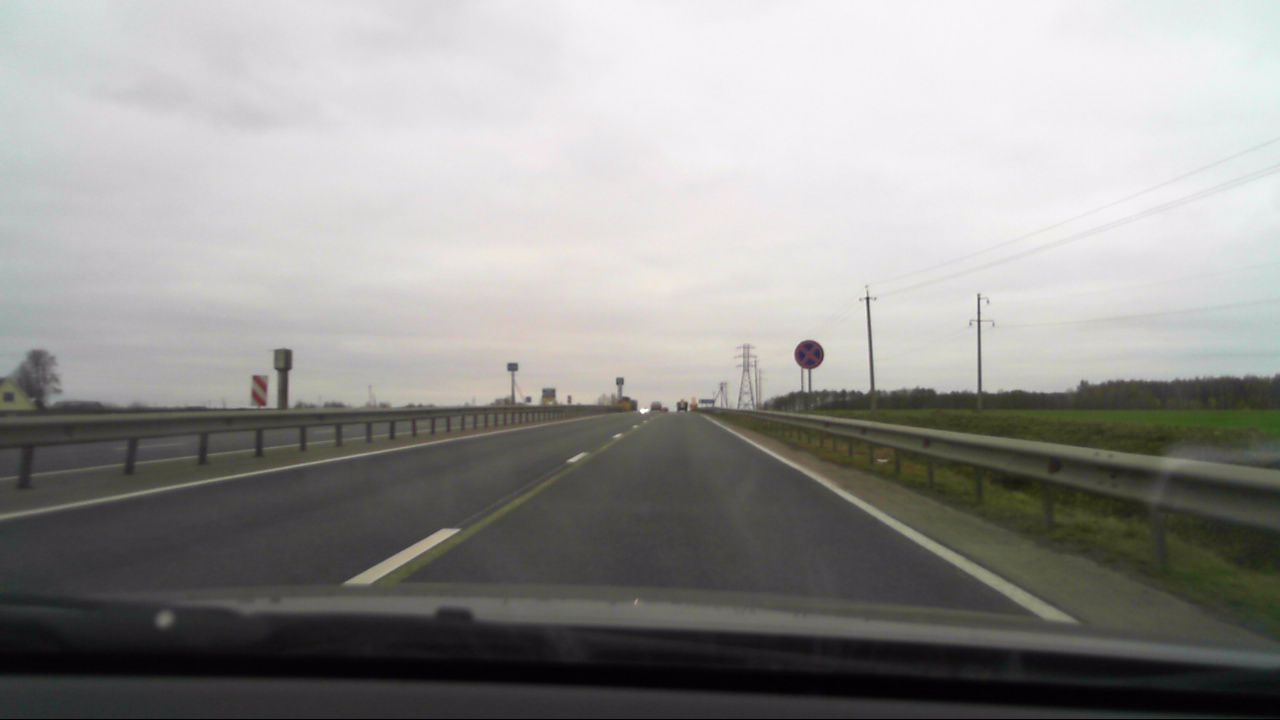No Parking: (794, 340, 823, 370)
